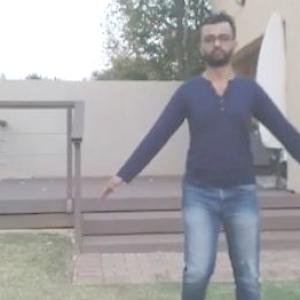land: (106, 27, 299, 299)
